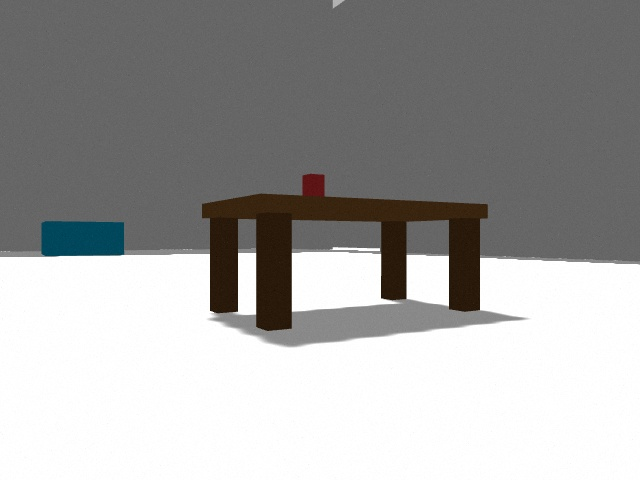blue_drop_zone: (41, 221, 124, 256)
